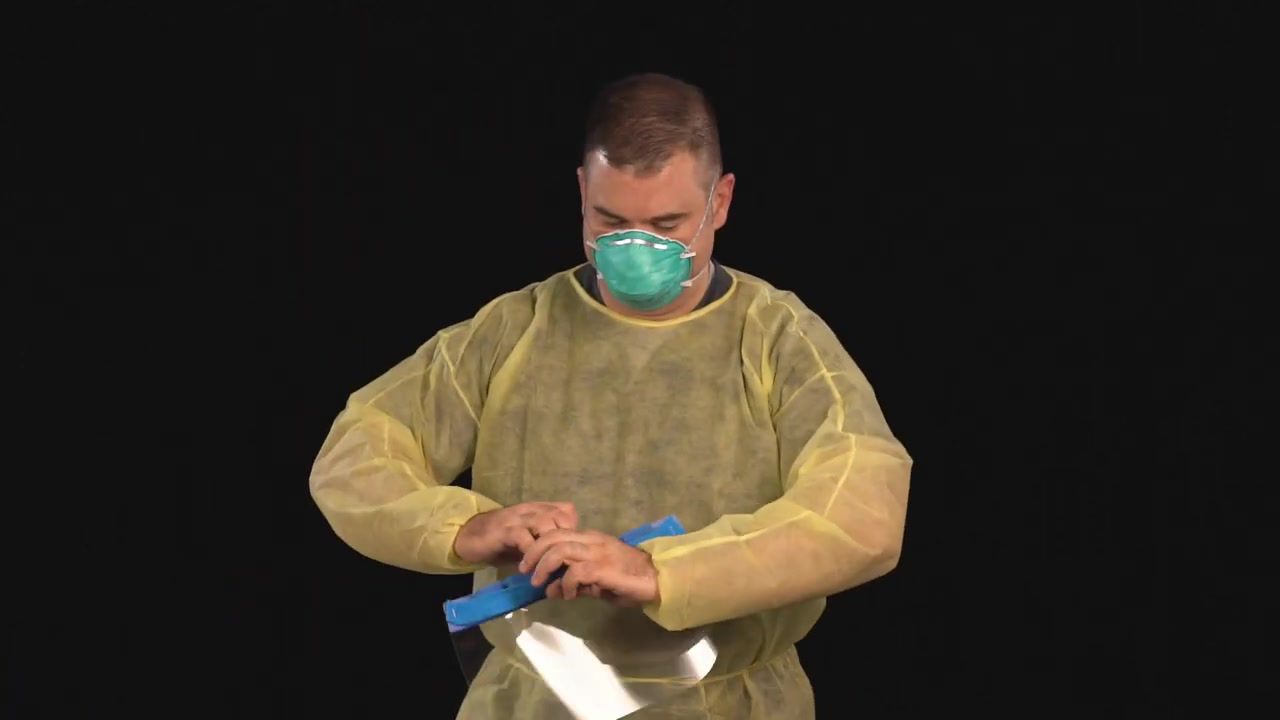Coverall: (337, 283, 899, 720)
Face_Shield: (423, 521, 744, 713)
with_mask: (580, 211, 699, 305)
